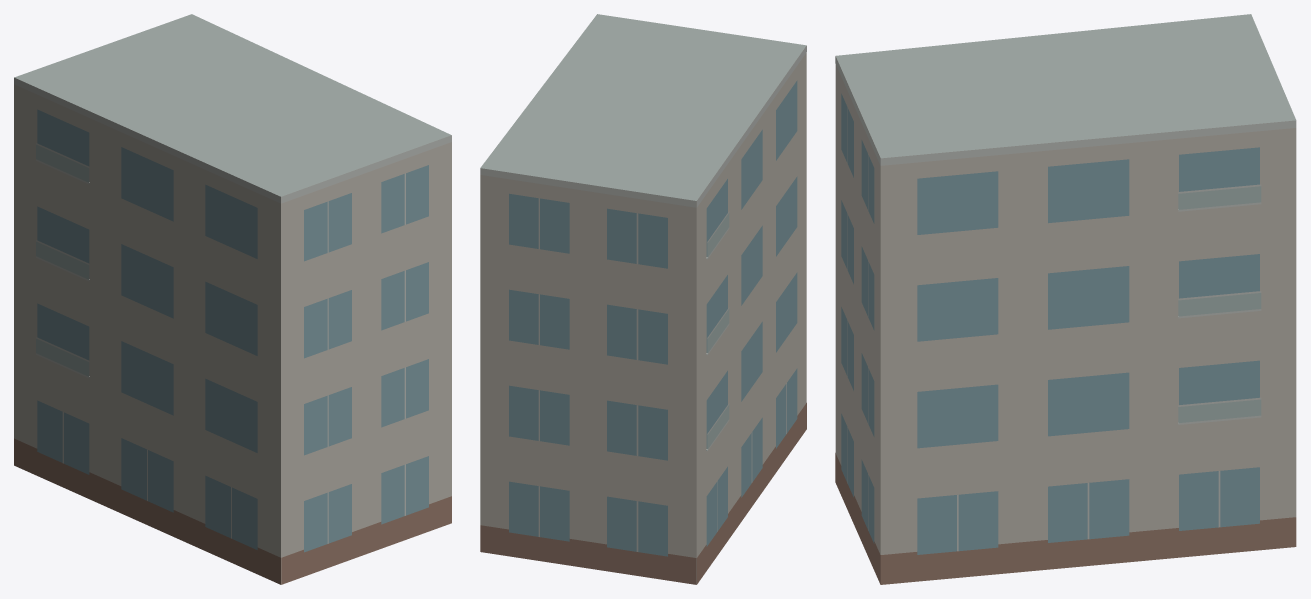
File: survey-upis-32699898.glb
3 views of the same model, side by side, from view 1: azimuth 30°, elevation 25°; view 2: azimuth 150°, elevation 25°; view 3: azimuth 270°, elevation 25° (orthographic). The views are drawn at different scales.
Visible parts, largest first — view 1: survey-upis-32699898.tmp; view 2: survey-upis-32699898.tmp; view 3: survey-upis-32699898.tmp.
Part boxes in pixels (x1=…): survey-upis-32699898.tmp: x1=14, y1=14, x2=451, y2=584; survey-upis-32699898.tmp: x1=480, y1=14, x2=806, y2=584; survey-upis-32699898.tmp: x1=835, y1=14, x2=1296, y2=584.
Bounding box in the file's own units: 10.1 × 13.9 × 13.63.
